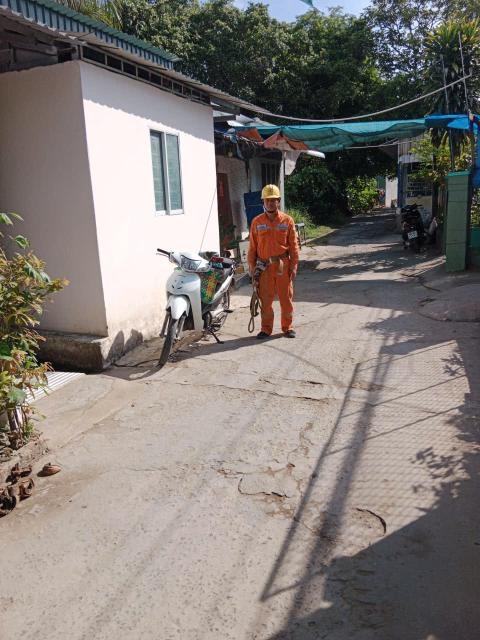harness: (254, 244, 295, 272)
helmet: (256, 180, 286, 202)
shoes: (277, 324, 306, 342), (253, 325, 272, 342)
